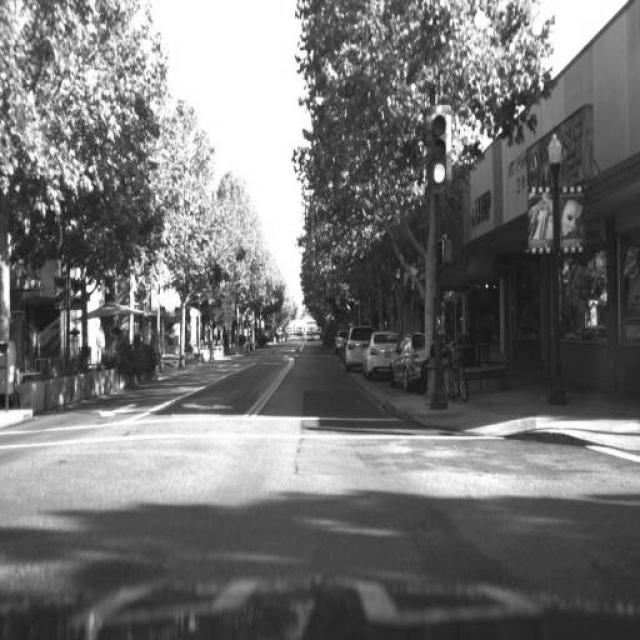semaforo: (426, 106, 452, 193)
